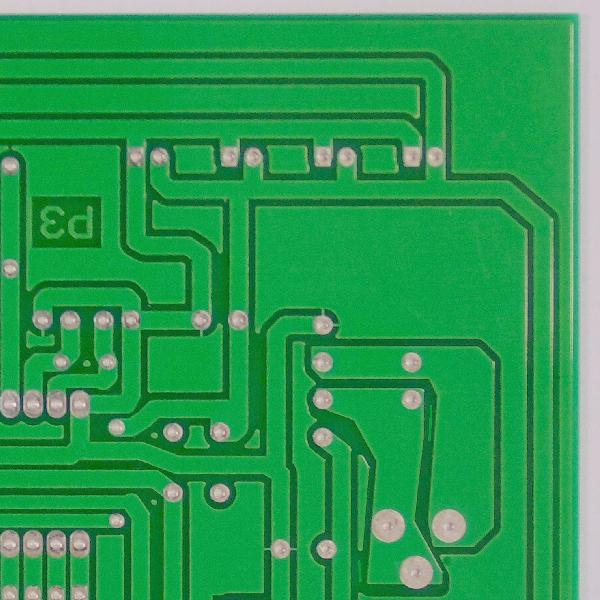spurious_copper: (423, 403, 439, 442), (353, 553, 367, 586)
